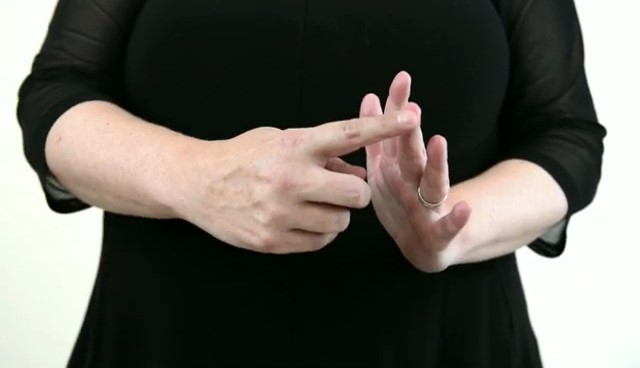I: (176, 57, 498, 290)
